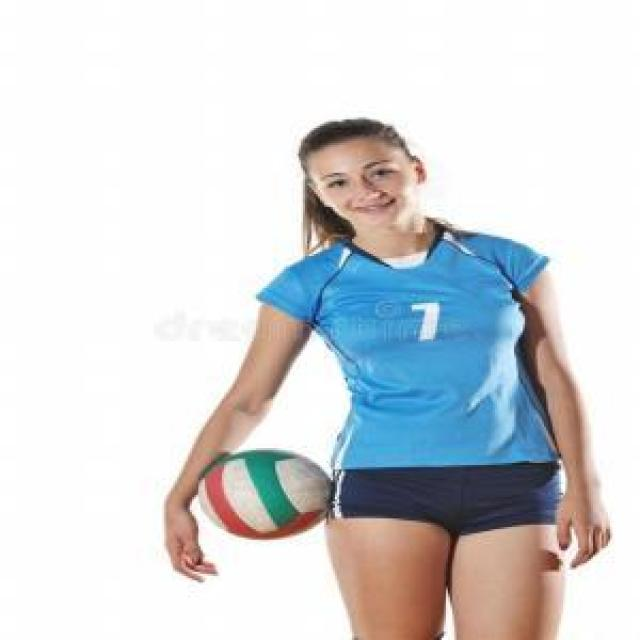volleyball: (200, 449, 330, 539)
